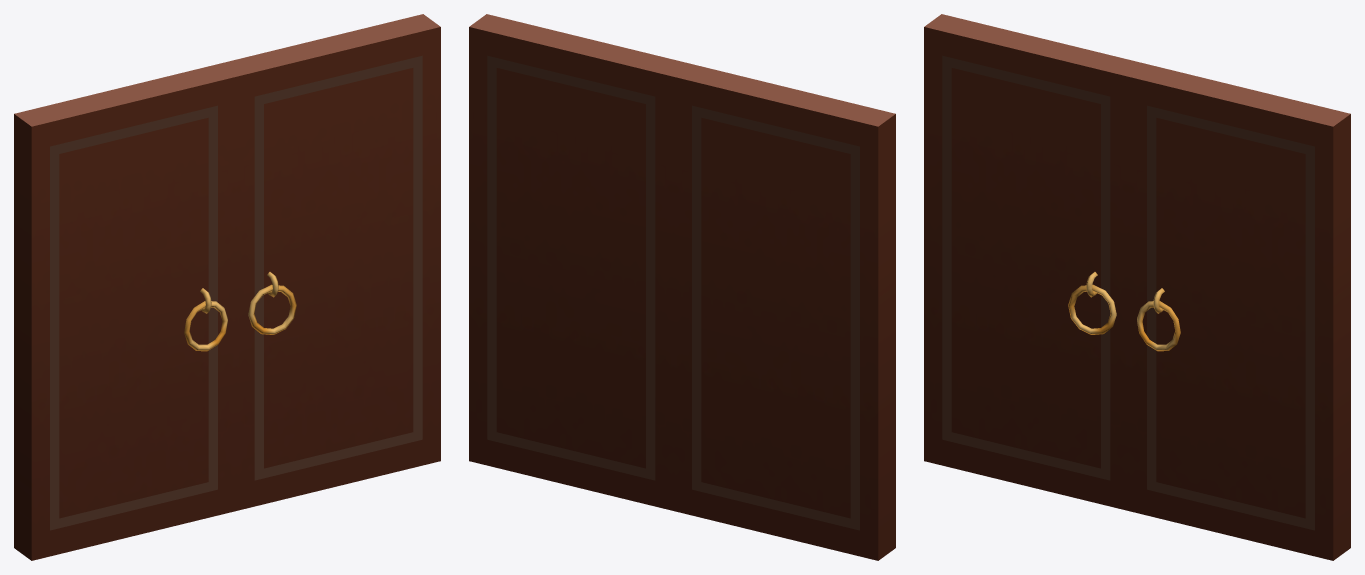
Rendered from Door_Simple.fbx.
3 views of the same model, side by side, from view 1: azimuth 30°, elevation 25°; view 2: azimuth 150°, elevation 25°; view 3: azimuth 330°, elevation 25° (orthographic).
Parts seen in each view (by area): view 1: Door_Right, Door_Left; view 2: Door_Right, Door_Left; view 3: Door_Left, Door_Right.
Part boxes in pixels (<box>): Door_Right: <box>14,64,236,560</box>; Door_Left: <box>219,14,440,510</box>; Door_Right: <box>673,64,895,560</box>; Door_Left: <box>469,14,690,510</box>; Door_Left: <box>1128,64,1350,560</box>; Door_Right: <box>924,14,1145,510</box>.
Size of the model in its own units: 84.54 by 85.74 by 9.07.
